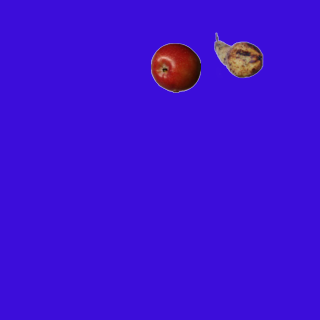Apple Braeburn: (150, 42, 200, 92)
Pear Abate: (213, 30, 263, 80)
